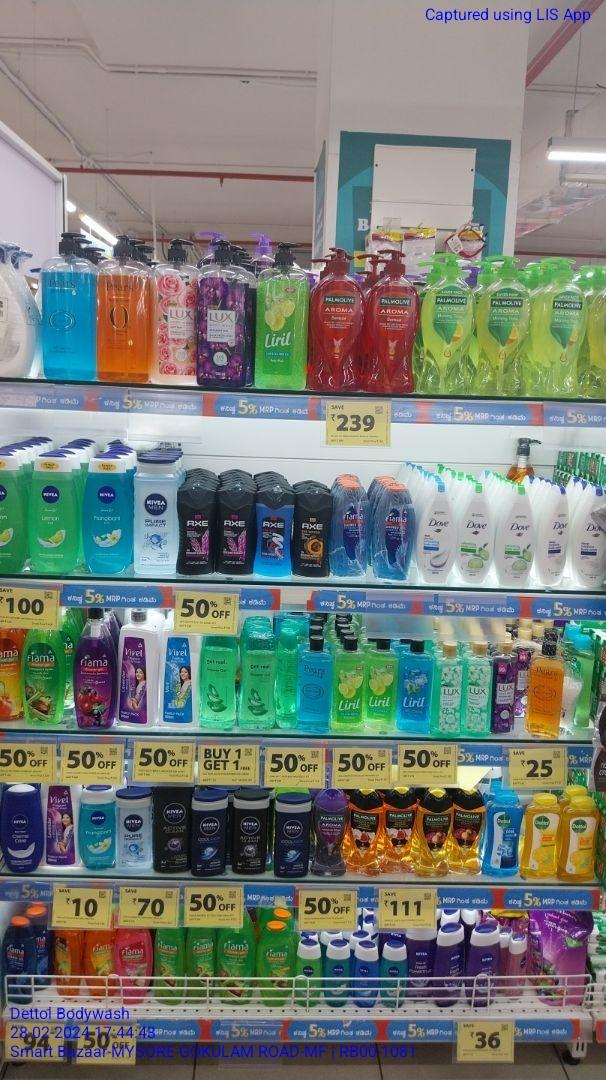Dettol_Bodywash_Cool: (483, 789, 521, 879)
Dettol_Bodywash_Refresh: (525, 790, 560, 882), (564, 798, 599, 884)
Dove_Deep_Moisture_Body_Wash_250ML: (543, 485, 572, 586), (579, 483, 606, 583)
Dove_Gentle_Exfoliating_Body_Wash_250ML: (418, 484, 455, 583)
Dove_Refreshing_Body_Wash_250ML: (498, 480, 536, 591), (458, 480, 496, 589)
Fiama_Shower_Gel_Lemongrass_and_Jojoba_250ML: (218, 926, 258, 1005), (260, 924, 295, 1009), (155, 928, 185, 1006), (187, 929, 217, 1005)
Fiama_Shower_Gel_Patchouli_and_Macadamia_250ML: (114, 927, 152, 1005)
Fiama_Shower_Gel_Peach_and_Avocado_250ML: (84, 932, 114, 995), (50, 930, 76, 999)
Liril_Cooling_Mint_Body_Wash_250ML: (395, 632, 433, 737)
Liril_Lime_and_Tea_Tree_Oil_Body_Wash_250ML: (331, 638, 362, 732), (366, 639, 393, 734)
Lux_Black_Orchid_Scent_and_Juniper_Oil_Body_Wash_245ML: (496, 639, 517, 736)
Lux_Body_Wash_Skin_Detox_Freesia_Scent_and_Alove_Vera_245ML: (434, 641, 463, 737), (466, 639, 491, 741)
Nivea_Creme_Care_Body_Wash_250ML: (0, 777, 42, 875)
Nivea_Shower_Gel_Frangipani_and_Oil_250ML: (82, 452, 135, 577), (77, 787, 114, 873)
Nivea_Shower_Gel_Lemon_and_Oil_250ML: (29, 450, 81, 577)
Palmolive_Aroma_Relax_250ML: (314, 785, 348, 881)
Palmolive_Luminous_Oils_Invigorating_Macadamia_Oil_With_Peony_250ML: (413, 785, 452, 878), (454, 789, 484, 879)
Palmolive_Luminous_Oils_With_White_Orchid_Shower_Gel_250ML: (350, 787, 382, 879), (384, 789, 413, 872)
Pears_Pure_Glycerin_and_Mint_Extracts_Body_Wash_250ML: (295, 638, 330, 732)
